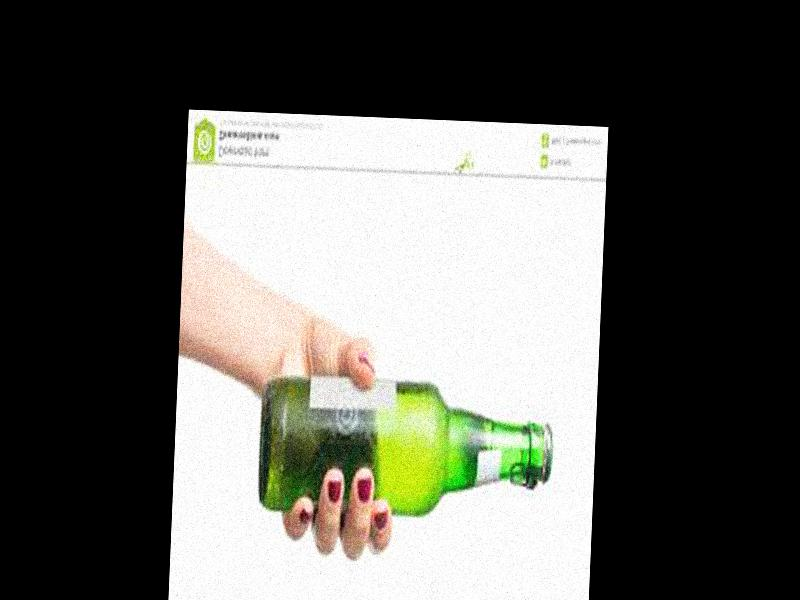Beer: (258, 370, 555, 530)
